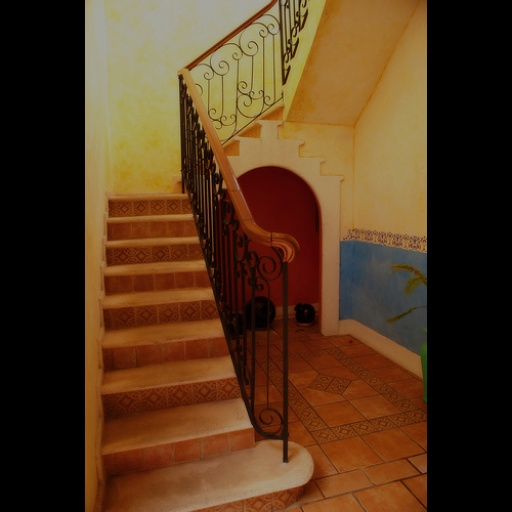Stairs: (102, 195, 255, 475)
